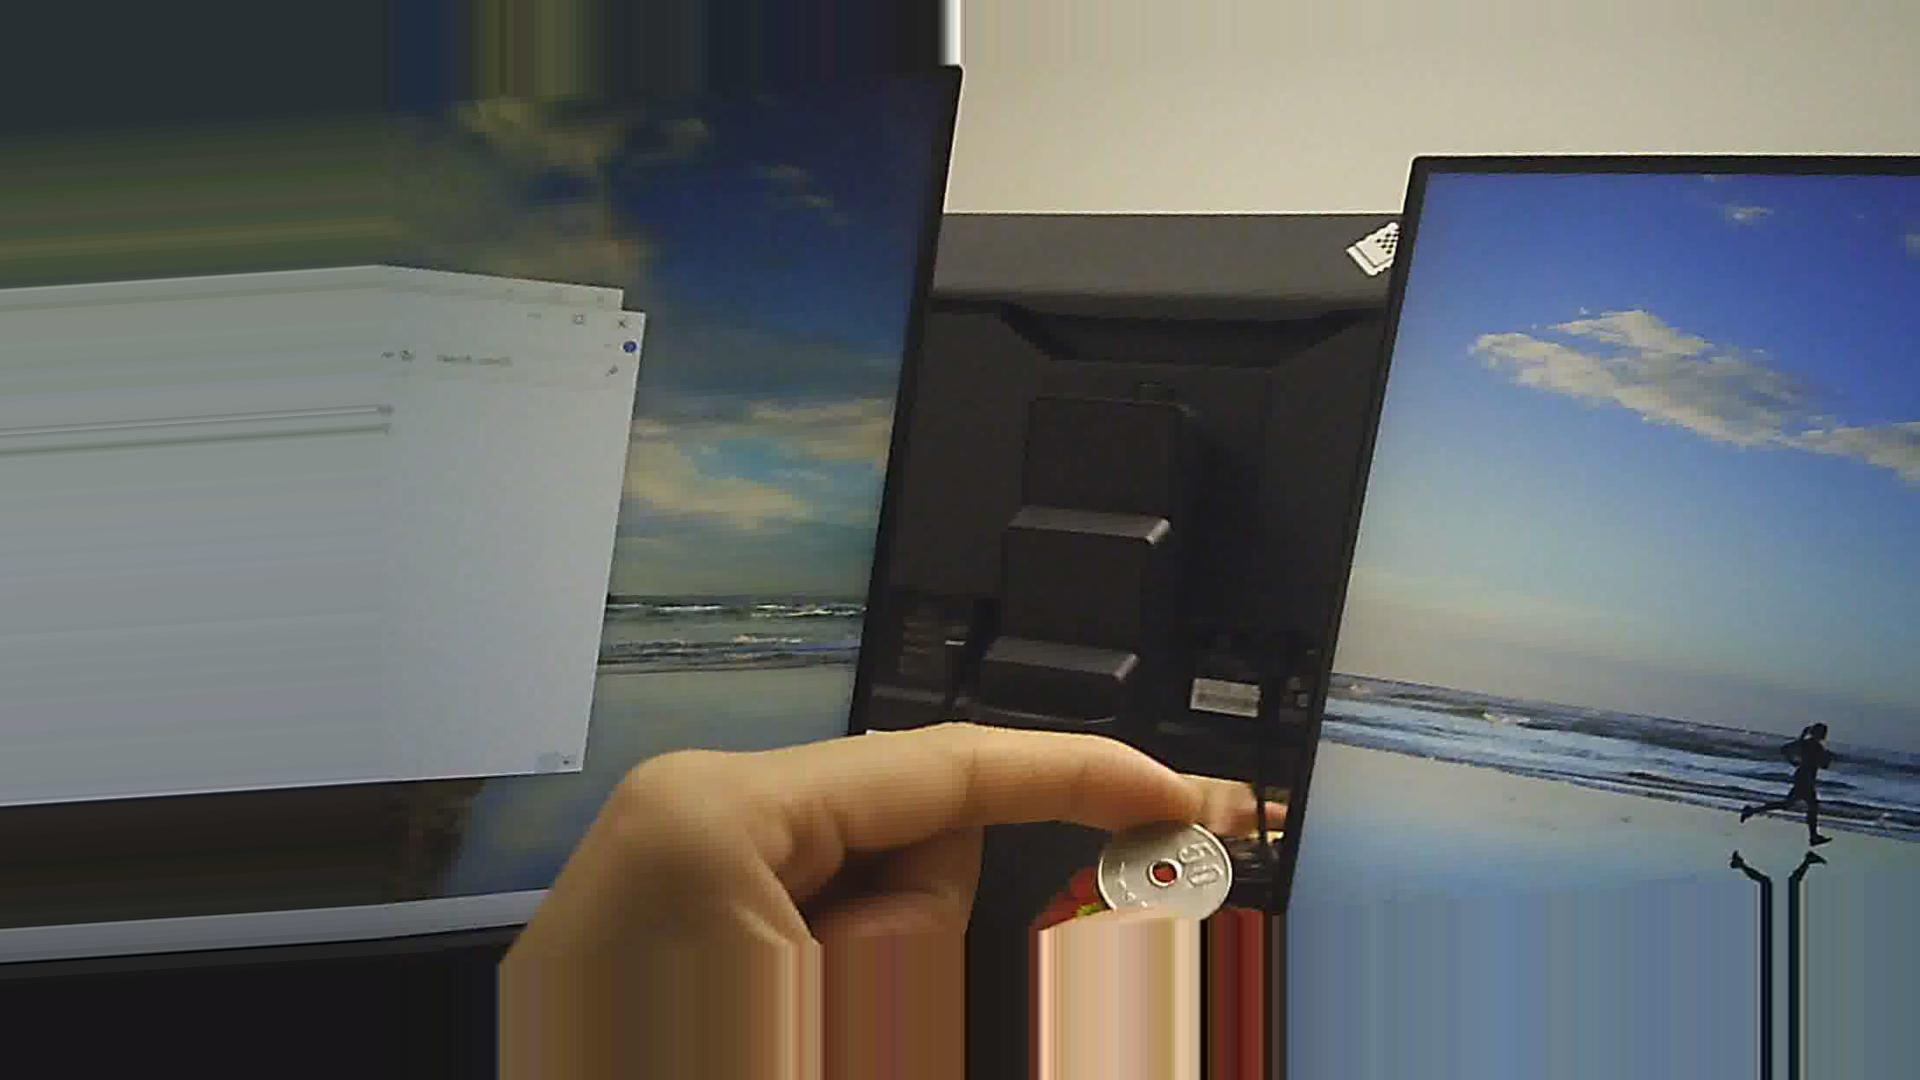50 Yen: (1083, 807, 1249, 928)
